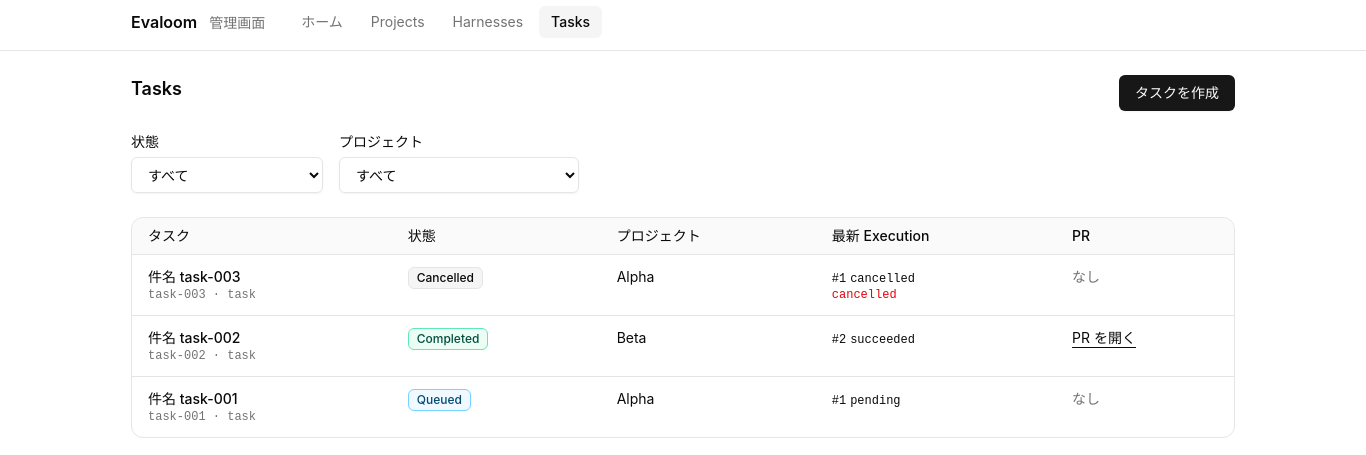
Test: Tasks 一覧 › 状態とプロジェクトで絞り込め、条件は URL に残る
Expected: the table "タスク" is shown, x1=132 y1=218 x2=1234 y2=437
Step 1. Select "Alpha" in the dropdown labelled "プロジェクト" → point(459, 175), box x1=339 y1=157 x2=579 y2=193
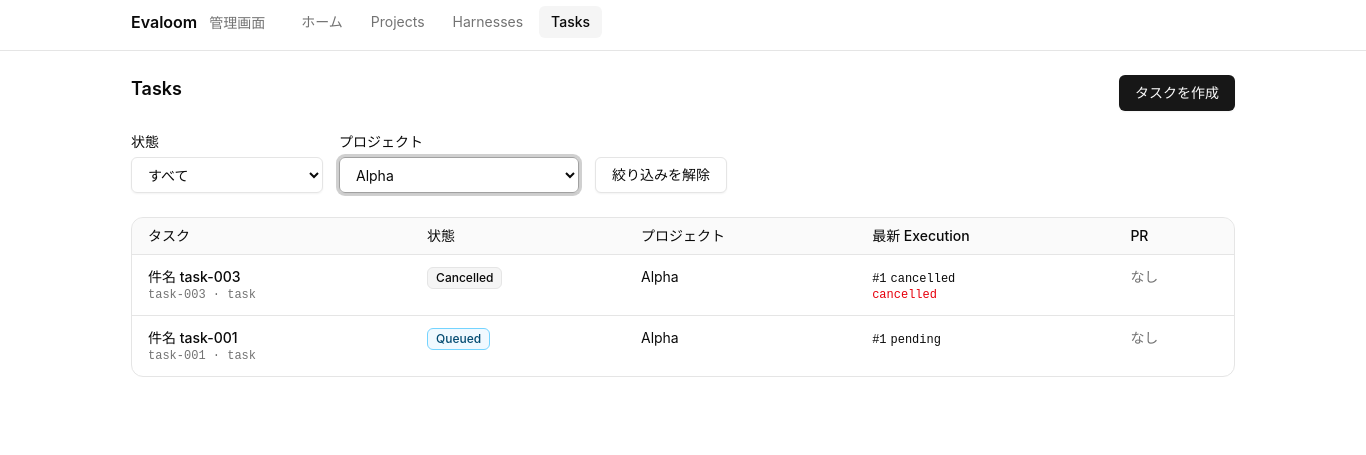
Expected: the link "件名 task-003" is shown, x1=148 y1=268 x2=240 y2=285
Step 2. Select "Queued" in the dropdown labelled "状態" → point(227, 175), box x1=131 y1=157 x2=323 y2=193
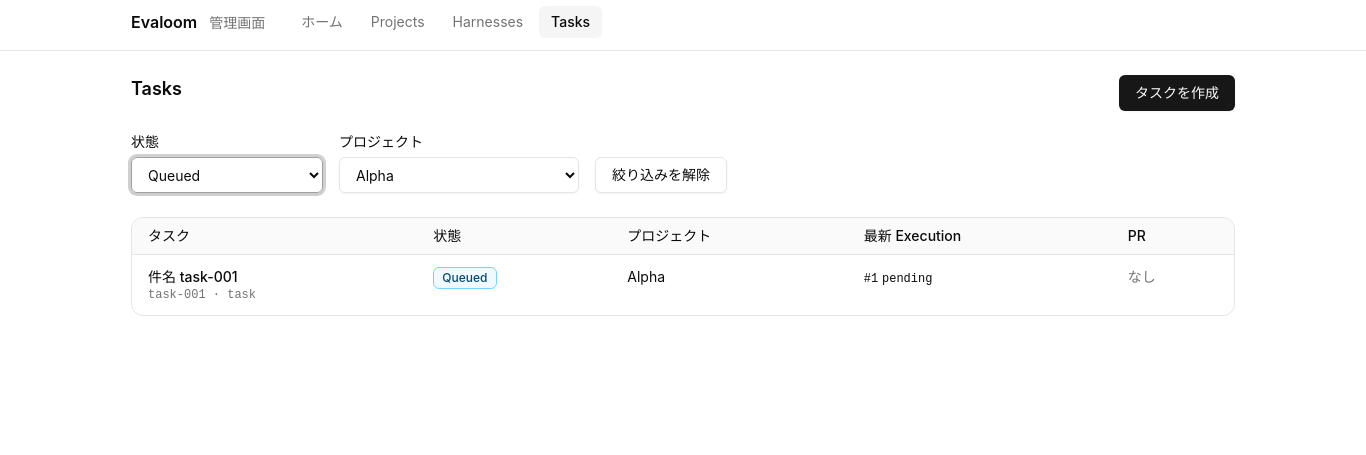
Expected: the link "件名 task-001" is shown, x1=148 y1=268 x2=238 y2=285
Result: the link "件名 task-003" is gone
Step 3. Select "Beta" in the dropdown labelled "プロジェクト" → point(459, 175), box x1=339 y1=157 x2=579 y2=193
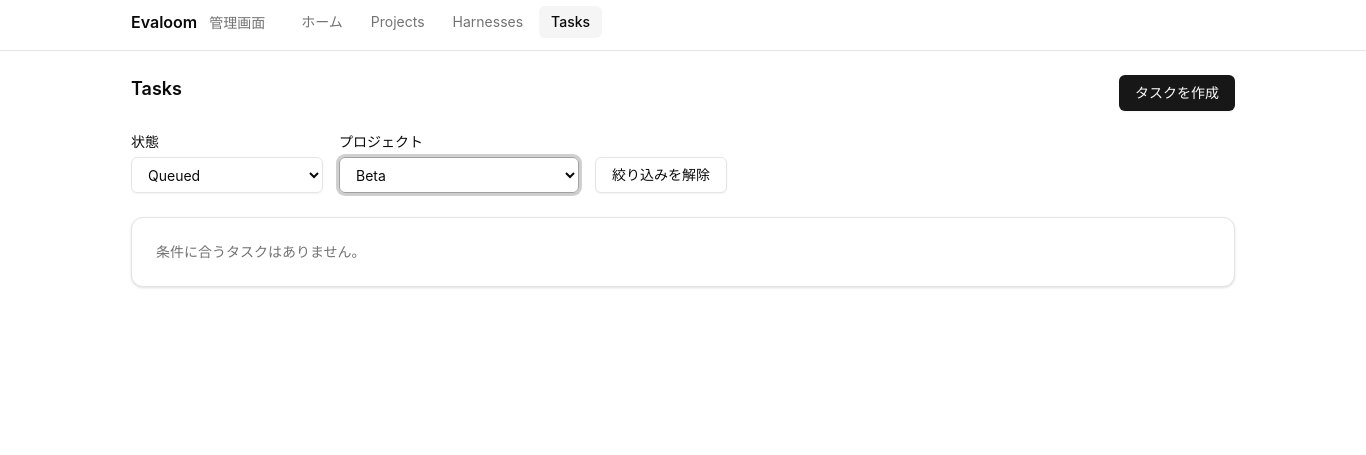
Result: the text "条件に合うタスクはありません。" is shown at x1=156 y1=243 x2=366 y2=260
Step 4. Click the button "絞り込みを解除" → point(661, 175), box x1=595 y1=157 x2=727 y2=193
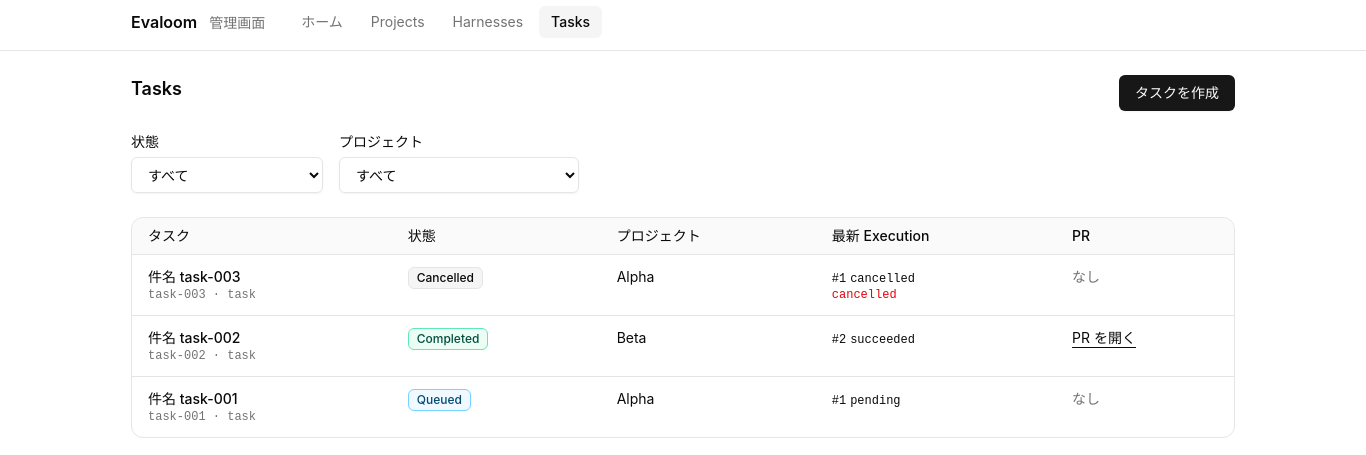
Result: the link "件名 task-002" is shown at x1=148 y1=329 x2=240 y2=346
